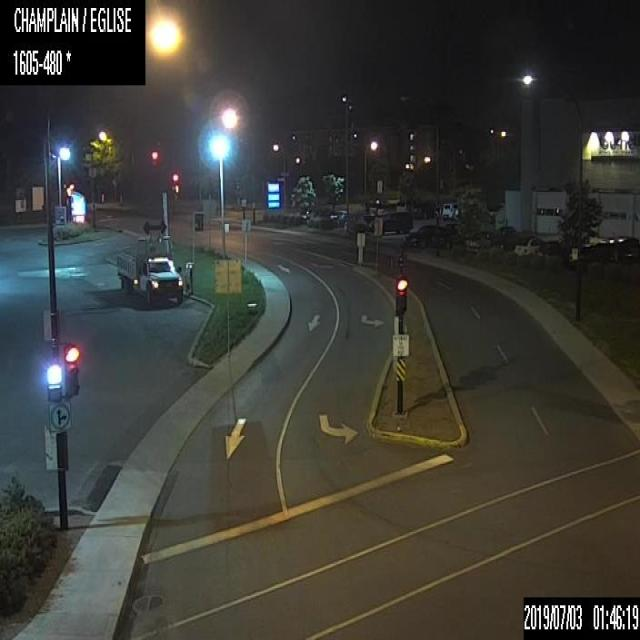vehicle: (116, 219, 182, 305), (367, 208, 413, 234), (406, 224, 442, 248), (430, 222, 458, 248), (530, 241, 563, 260), (514, 234, 542, 256), (490, 231, 521, 250), (465, 230, 493, 251), (411, 198, 434, 218), (441, 201, 458, 218), (335, 212, 355, 225), (395, 199, 414, 211), (329, 209, 346, 219), (298, 210, 311, 219), (453, 206, 458, 220)
